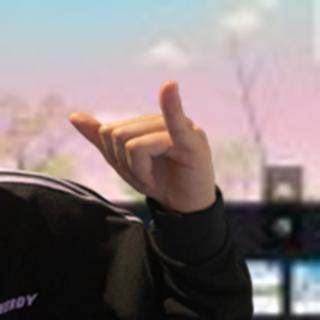HAVE: (66, 78, 219, 215)
